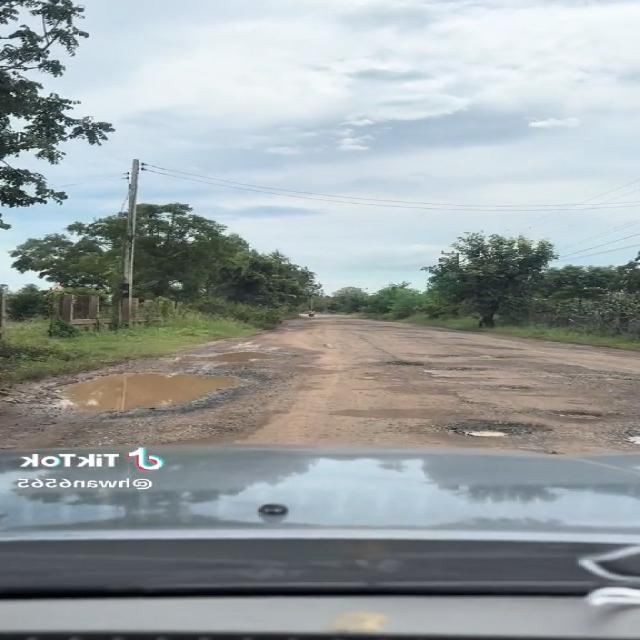Poth-hole: (340, 314, 389, 371)
